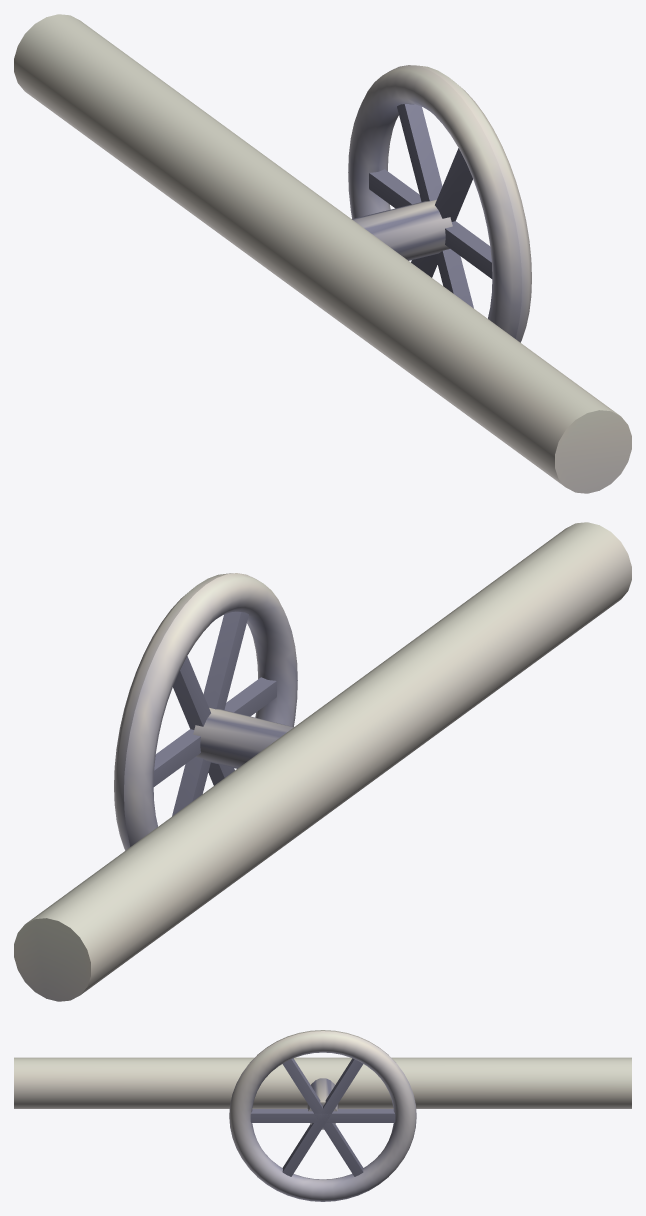
Rendered from valve-wheel.glb.
3 views of the same model, one above another, from view 1: azimuth 30°, elevation 25°; view 2: azimuth 150°, elevation 25°; view 3: azimuth 270°, elevation 25° (orthographic). The views are drawn at different scales.
Visible parts, largest first — view 1: body; view 2: body; view 3: body.
Boxes of the visible parts, left/top/right/bottom form: body: left=14, top=14, right=631, bottom=493; body: left=14, top=522, right=631, bottom=1001; body: left=14, top=1030, right=631, bottom=1201.
Size of the model in its own units: 0.2214 by 0.364 by 1.2.
